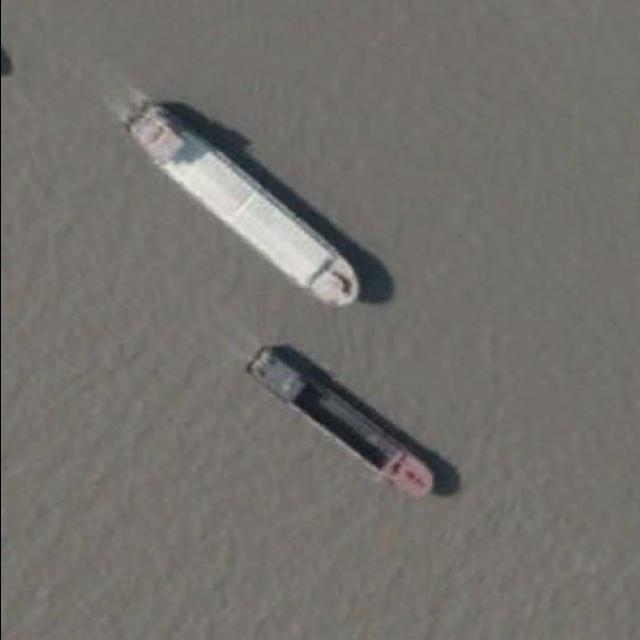ship: (118, 100, 364, 312), (242, 344, 436, 504)
